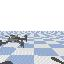drone: (0, 35, 27, 48)
